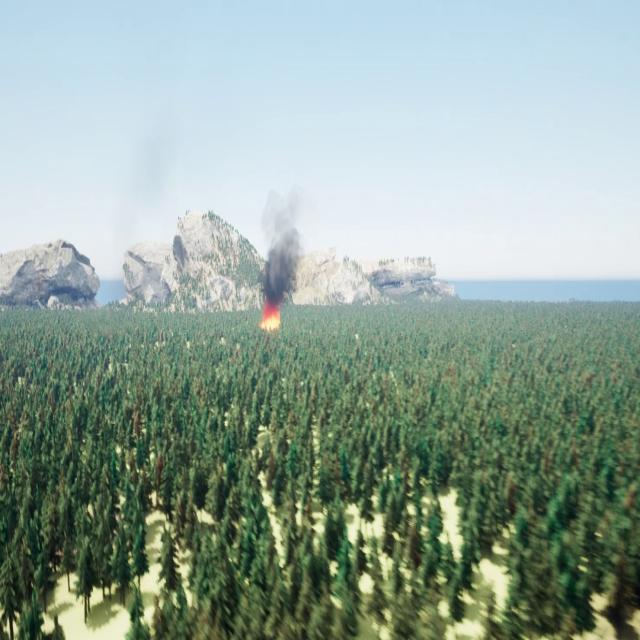fire: (260, 302, 286, 330)
smoke: (263, 186, 303, 300)
